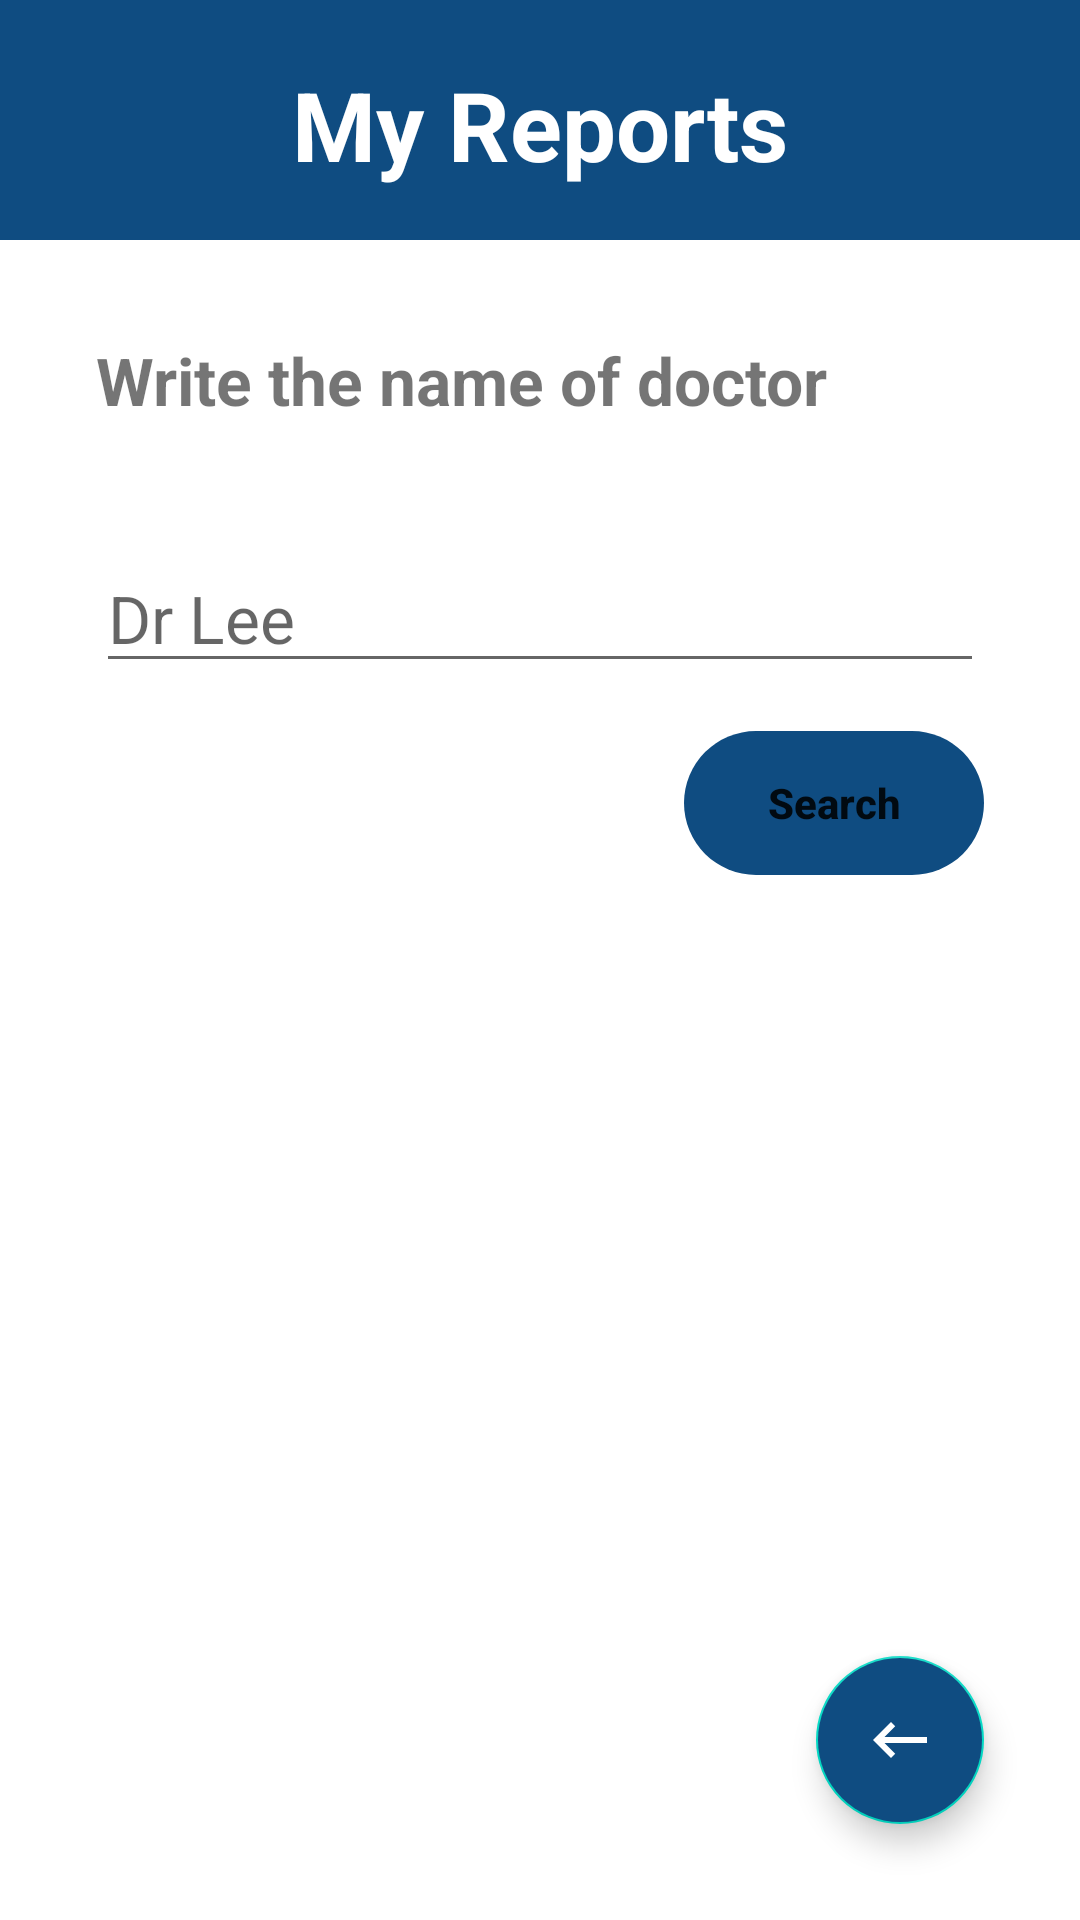

Point at icon controls on the screen. Image size 1080px x 1920px, points as [x,y].
back: [900,1740]
